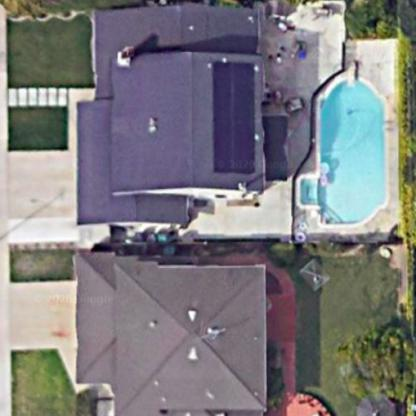solar_panel: (208, 55, 262, 183)
swimming_pool: (290, 52, 402, 237)
